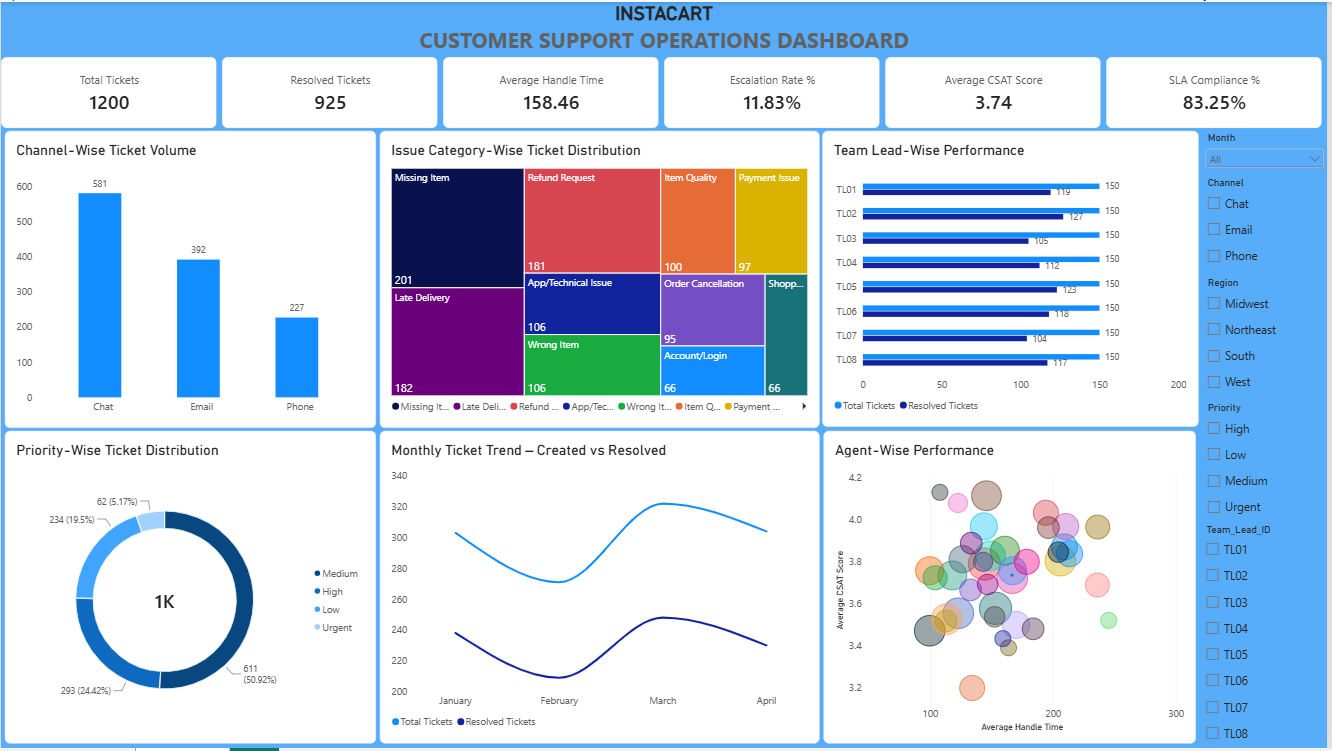

The dashboard page shown, as its layout file describes it:
{"tool":"powerbi","page":{"name":"Page 1","canvas":[1920,1080],"ordinal":0},"visuals":[{"type":"textbox","title":"INSTACART ","box":[0,0,1920.1,81.4],"z":0},{"type":"cardVisual","fields":{"Data":["Support_Tickets.Total Tickets","Support_Tickets.Resolved Tickets","Support_Tickets.Average Handle Time","Support_Tickets.Escalation Rate %","Support_Tickets.Average CSAT Score","Support_Tickets.SLA Compliance %"]},"box":[0,79.6,1914.6,103.2],"z":1000},{"type":"clusteredColumnChart","title":"Channel-Wise Ticket Volume","fields":{"Category":["Support_Tickets.Channel"],"Y":["Support_Tickets.Total Tickets"]},"box":[5.4,186.4,537.5,430.7],"z":2000},{"type":"treemap","title":"Issue Category-Wise Ticket Distribution","fields":{"Group":["Support_Tickets.Issue_Category"],"Values":["Support_Tickets.Total Tickets"]},"box":[548.3,186.4,637,430.7],"z":3000},{"type":"donutChart","title":"Priority-Wise Ticket Distribution","fields":{"Category":["Support_Tickets.Priority"],"Y":["Support_Tickets.Total Tickets"]},"box":[5.4,620.7,537.5,452.4],"z":4000},{"type":"lineChart","title":"Monthly Ticket Trend – Created vs Resolved","fields":{"Category":["Support_Tickets.Contact_Date.Variation.Date Hierarchy.Month"],"Y":["Support_Tickets.Total Tickets","Support_Tickets.Resolved Tickets"]},"box":[548.3,620.7,637,452.4],"z":5000},{"type":"clusteredBarChart","title":"Team Lead-Wise Performance","fields":{"Category":["Support_Tickets.Team_Lead_ID"],"Y":["Support_Tickets.Total Tickets","Support_Tickets.Resolved Tickets"]},"box":[1188.9,186.4,544.7,428.9],"z":6000},{"type":"scatterChart","title":"Agent-Wise Performance","fields":{"Category":["Support_Tickets.Agent_ID"],"Size":["Support_Tickets.Total Tickets"],"X":["Support_Tickets.Average Handle Time"],"Y":["Support_Tickets.Average CSAT Score"]},"box":[1190.8,620.7,539.3,452.4],"z":7000},{"type":"slicer","fields":{"Values":["Support_Tickets.Contact_Date.Variation.Date Hierarchy.Month"]},"box":[1739.1,188.2,181,65.1],"z":8000},{"type":"slicer","fields":{"Values":["Support_Tickets.Channel"]},"box":[1739.1,253.4,181,150.2],"z":9000},{"type":"slicer","fields":{"Values":["Support_Tickets.Region"]},"box":[1739.1,398.1,175.5,184.6],"z":10000},{"type":"slicer","fields":{"Values":["Support_Tickets.Priority"]},"box":[1739.1,579.1,179.2,173.7],"z":11000},{"type":"slicer","fields":{"Values":["Support_Tickets.Team_Lead_ID"]},"box":[1737.3,754.6,179.2,325.7],"z":12000}]}

Visuals, with their boxes in screenshot pixels (x1, y1, x2, y2), scaled from the page's 1920x1080 canvas onto the 1332x751 screenshot:
"INSTACART " textbox: select_region(0, 0, 1331, 57)
cardVisual - Support_Tickets.Total Tickets x Support_Tickets.Resolved Tickets: select_region(0, 55, 1328, 127)
"Channel-Wise Ticket Volume" clusteredColumnChart: select_region(4, 130, 377, 429)
"Issue Category-Wise Ticket Distribution" treemap: select_region(380, 130, 822, 429)
"Priority-Wise Ticket Distribution" donutChart: select_region(4, 432, 377, 746)
"Monthly Ticket Trend – Created vs Resolved" lineChart: select_region(380, 432, 822, 746)
"Team Lead-Wise Performance" clusteredBarChart: select_region(825, 130, 1203, 428)
"Agent-Wise Performance" scatterChart: select_region(826, 432, 1200, 746)
slicer - Support_Tickets.Contact_Date.Variation.Date Hierarchy.Month: select_region(1207, 131, 1331, 176)
slicer - Support_Tickets.Channel: select_region(1207, 176, 1331, 281)
slicer - Support_Tickets.Region: select_region(1207, 277, 1328, 405)
slicer - Support_Tickets.Priority: select_region(1207, 403, 1331, 523)
slicer - Support_Tickets.Team_Lead_ID: select_region(1205, 525, 1330, 750)
